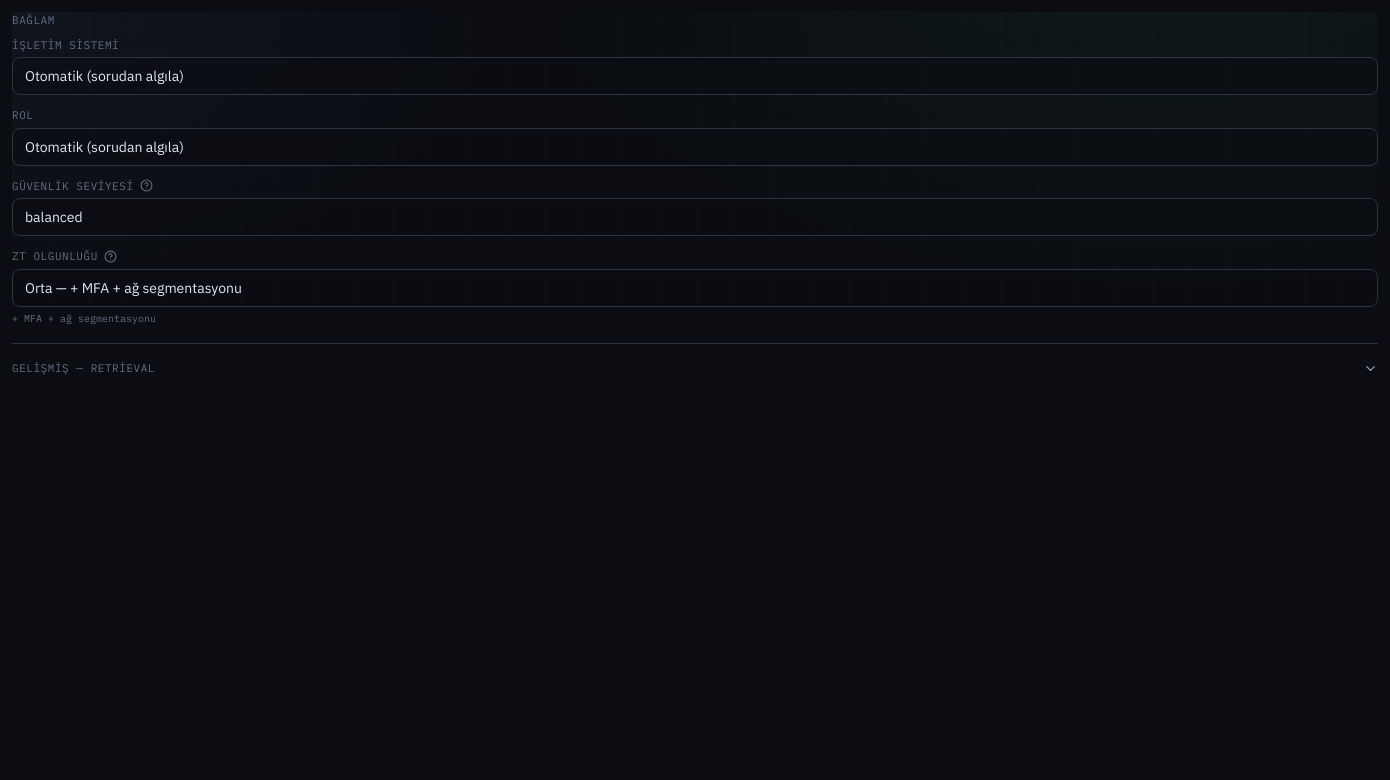
Test: ContextControls — Grup 2 (gelişmiş accordion) › accordion açılınca retrieval ayarları görünür
Click the button "Gelişmiş — Retrieval" at (84,368), box [12,360,1378,376]
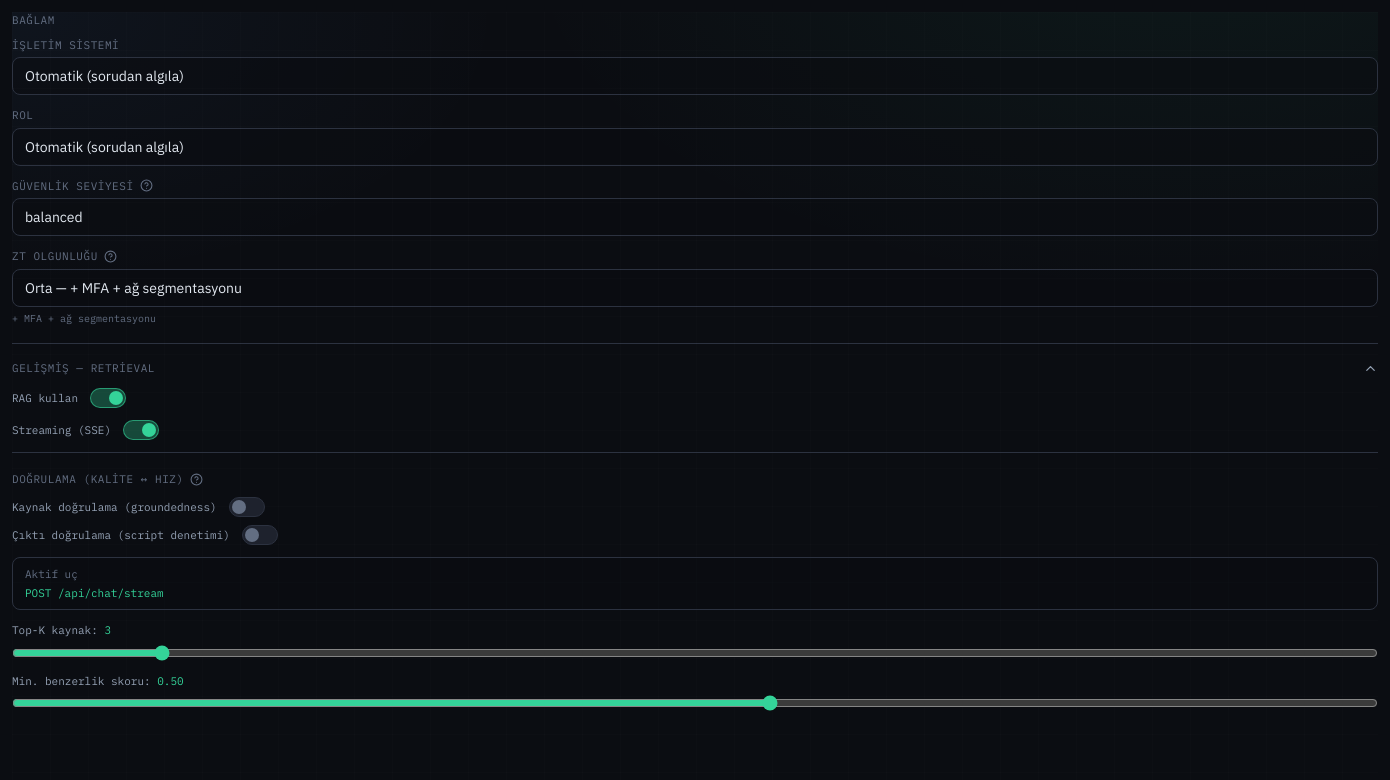
Expected: the text "RAG kullan" is shown, [12,388,78,408]
Expected: the text "Top-K kaynak: 3" is shown, [12,623,111,637]
Expected: the text "Min. benzerlik skoru: 0.50" is shown, [12,674,184,688]
